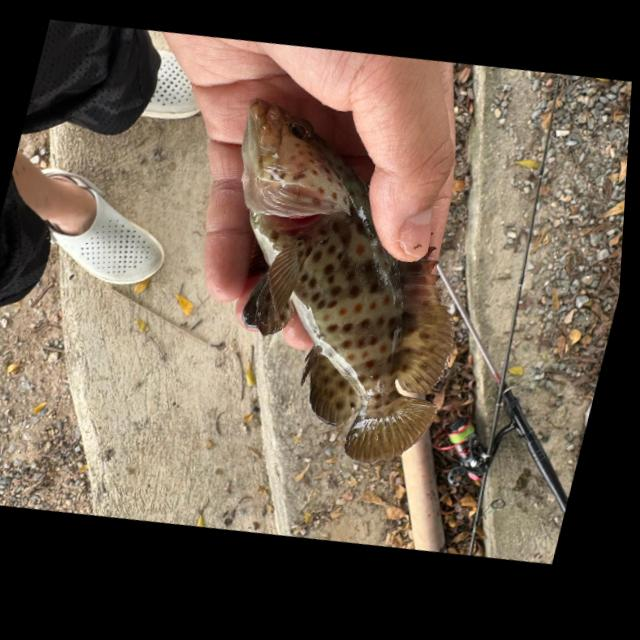Groupers: (162, 73, 514, 494)
